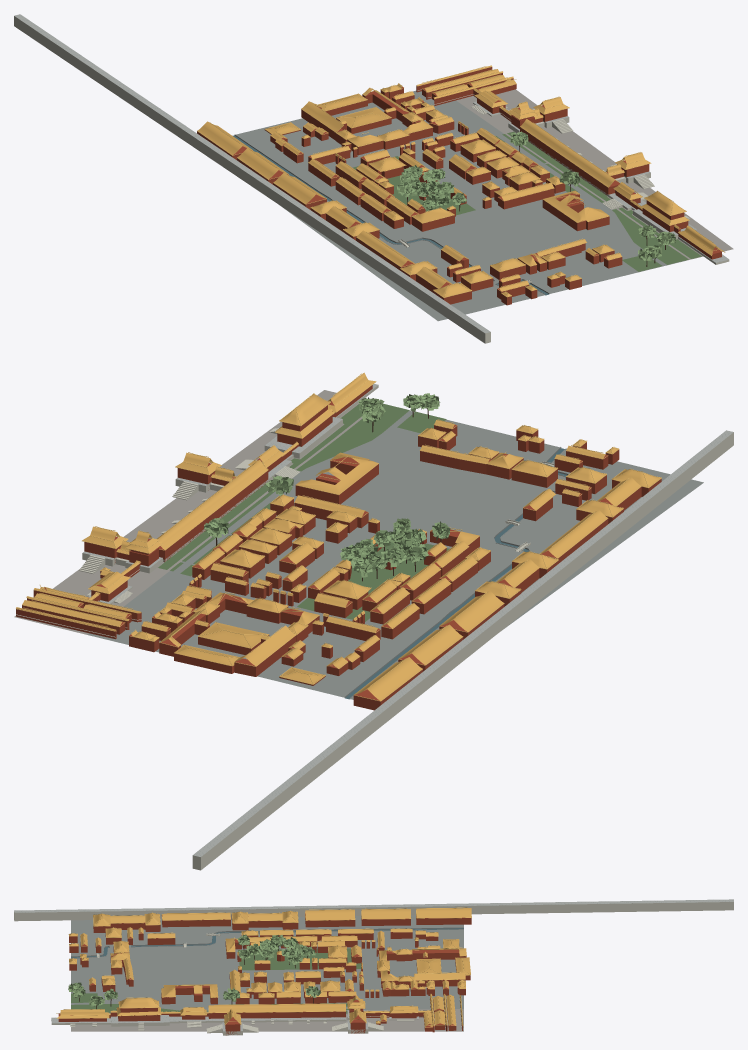
Rendered from west-medium.glb.
The picture shows the model from 3 angles, top to bottom: view 1: azimuth 30°, elevation 25°; view 2: azimuth 150°, elevation 25°; view 3: azimuth 270°, elevation 25°; orthographic projection. The views are drawn at different scales.
Visible parts, largest first — view 1: west_medium_Roof_Glazed_Ochre, west_medium_Courtyard_Stone, west_medium_Vermilion, west_medium_Limestone, west_medium_Roof_Ridge_Highlight, west_medium_Terrace_Paving, west_medium_Garden_Green, west_medium_Courtyard_Warm, west_medium_Foliage_Leaves; view 2: west_medium_Roof_Glazed_Ochre, west_medium_Courtyard_Stone, west_medium_Vermilion, west_medium_Limestone, west_medium_Roof_Ridge_Highlight, west_medium_Garden_Green, west_medium_Terrace_Paving, west_medium_Foliage_Leaves, west_medium_Courtyard_Warm, west_medium_Water_Jade; view 3: west_medium_Roof_Glazed_Ochre, west_medium_Courtyard_Stone, west_medium_Vermilion, west_medium_Limestone, west_medium_Roof_Ridge_Highlight, west_medium_Terrace_Paving, west_medium_Courtyard_Warm, west_medium_Foliage_Leaves, west_medium_Garden_Green, west_medium_Water_Jade.
Boxes of the visible parts, x1,y1,x2,y2 form: west_medium_Roof_Glazed_Ochre: [197, 65, 723, 297]; west_medium_Courtyard_Stone: [20, 19, 722, 330]; west_medium_Vermilion: [197, 67, 721, 305]; west_medium_Limestone: [14, 16, 729, 343]; west_medium_Roof_Ridge_Highlight: [197, 66, 725, 297]; west_medium_Terrace_Paving: [14, 14, 728, 333]; west_medium_Garden_Green: [352, 131, 701, 271]; west_medium_Courtyard_Warm: [456, 89, 733, 260]; west_medium_Foliage_Leaves: [397, 131, 675, 261]; west_medium_Roof_Glazed_Ochre: [16, 372, 661, 700]; west_medium_Courtyard_Stone: [87, 410, 725, 855]; west_medium_Vermilion: [16, 385, 661, 710]; west_medium_Limestone: [16, 385, 733, 870]; west_medium_Roof_Ridge_Highlight: [16, 373, 661, 701]; west_medium_Garden_Green: [158, 403, 449, 621]; west_medium_Terrace_Paving: [83, 384, 733, 856]; west_medium_Foliage_Leaves: [203, 393, 450, 577]; west_medium_Courtyard_Warm: [14, 390, 362, 634]; west_medium_Water_Jade: [345, 448, 567, 699]; west_medium_Roof_Glazed_Ochre: [57, 908, 471, 1026]; west_medium_Courtyard_Stone: [15, 900, 729, 1023]; west_medium_Vermilion: [58, 913, 471, 1035]; west_medium_Limestone: [14, 902, 733, 1035]; west_medium_Roof_Ridge_Highlight: [56, 907, 471, 1027]; west_medium_Terrace_Paving: [14, 899, 733, 1031]; west_medium_Courtyard_Warm: [71, 1009, 463, 1031]; west_medium_Foliage_Leaves: [68, 934, 321, 1006]; west_medium_Garden_Green: [71, 948, 360, 1013]; west_medium_Water_Jade: [71, 928, 463, 957].
Bounding box in the file's own units: 3.27 × 0.2841 × 7.75.
